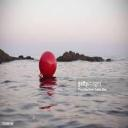red: (39, 52, 57, 78)
